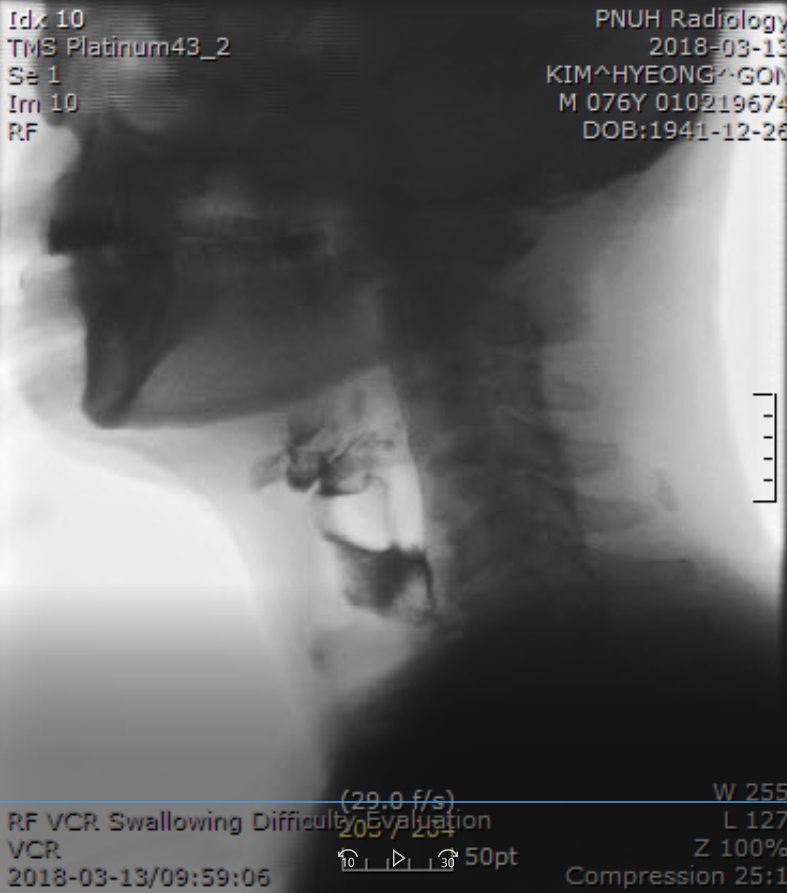dros: (327, 522, 413, 634)
food: (235, 380, 457, 644)
uros: (267, 417, 384, 502)
